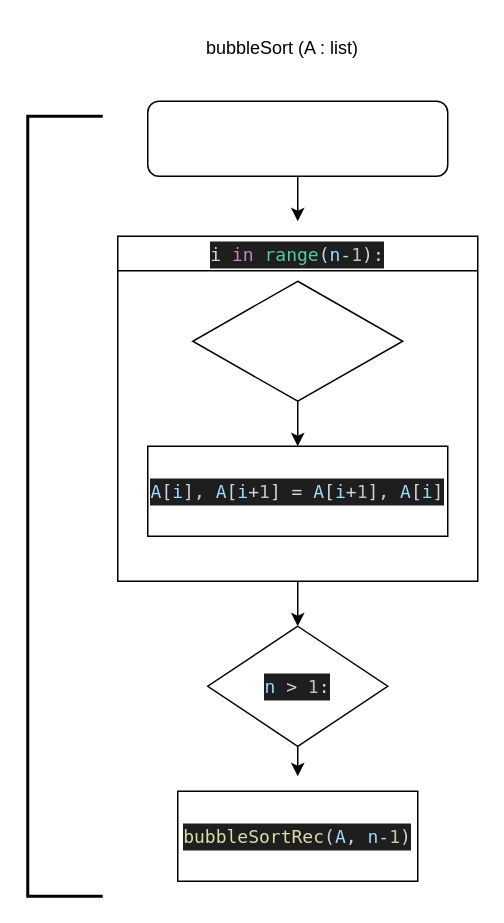
Some shapes in this 504 by 923 pixel diagram are drawn without their labels. The shapes that lost their labels are listed below. From the top down, each one's centre as x and y in pixels, then its label:
At point 297,138: "def bubbleSortRec ( A , n ):".
At point 297,340: "A [ i ] > A [ i + 1 ]:".
